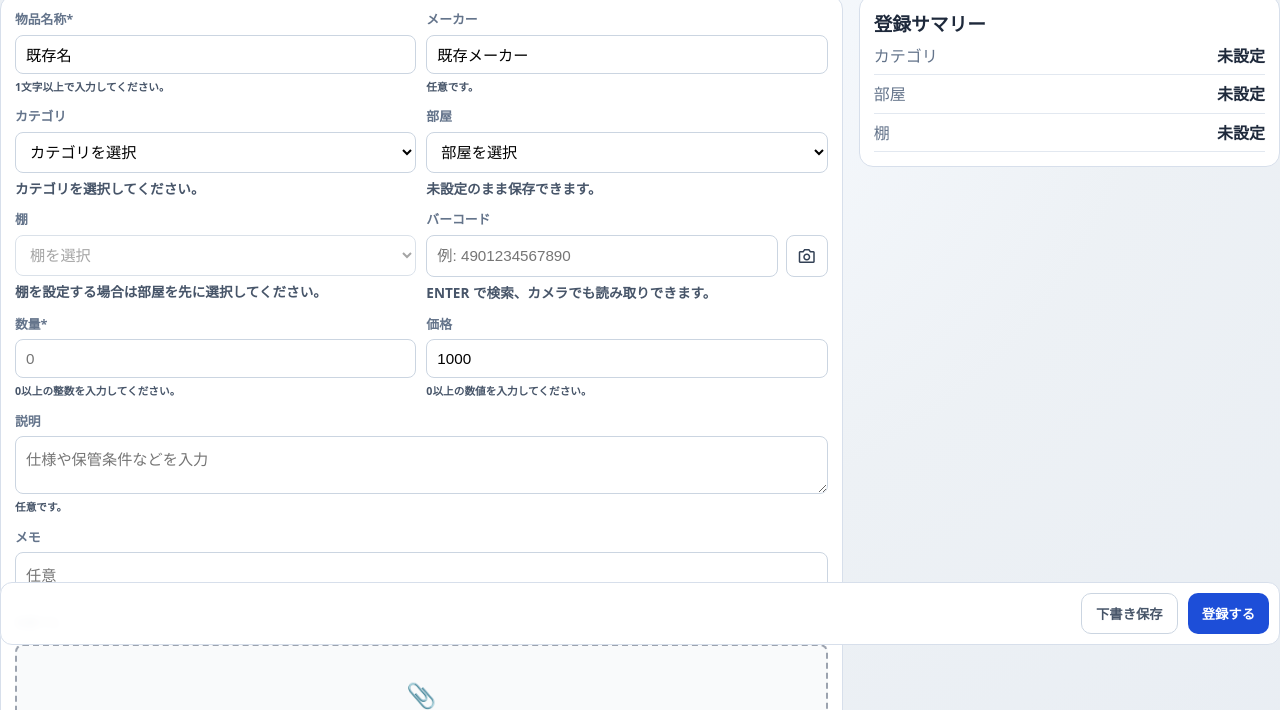
Scenario: ItemForm barcode › 競合値がある場合に差分選択パネルを表示する
The width and height of the screenshot is (1280, 710).
Type "4901234567890" into the field named "barcode" at (602, 256), box [426,235,778,277]
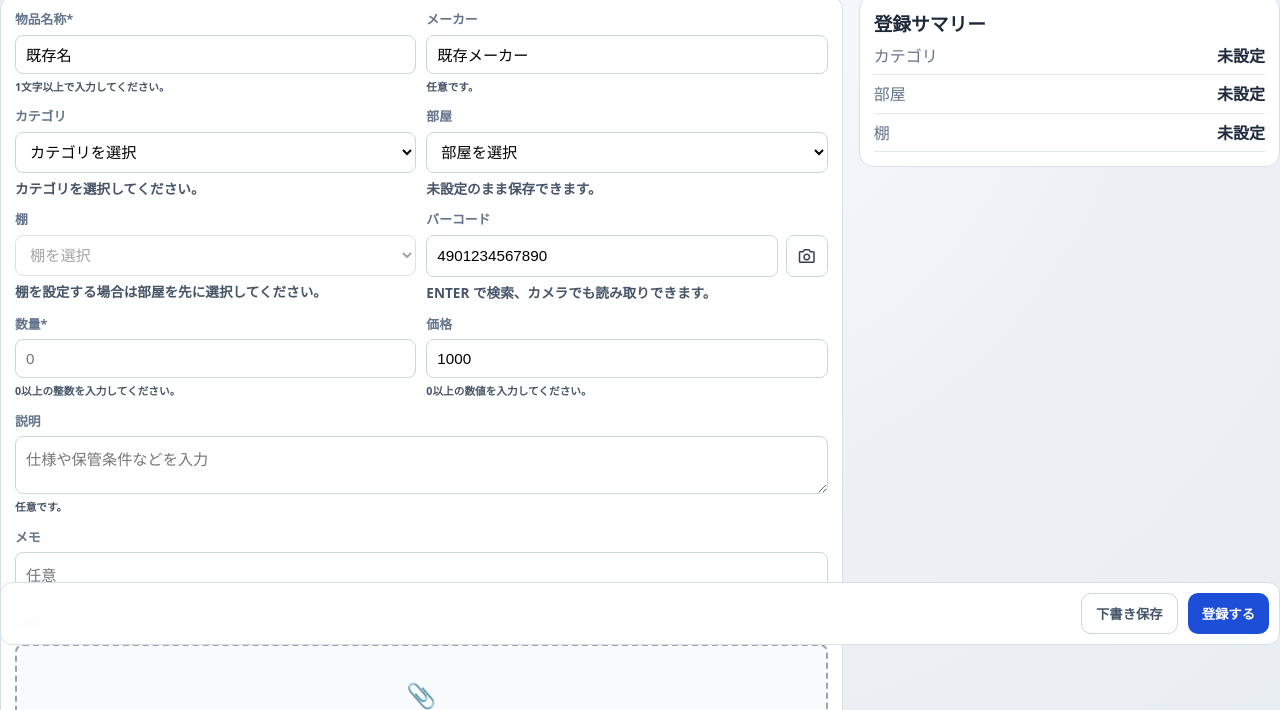
Press Enter in the field named "barcode", box [426,235,778,277]
(page scrolled)
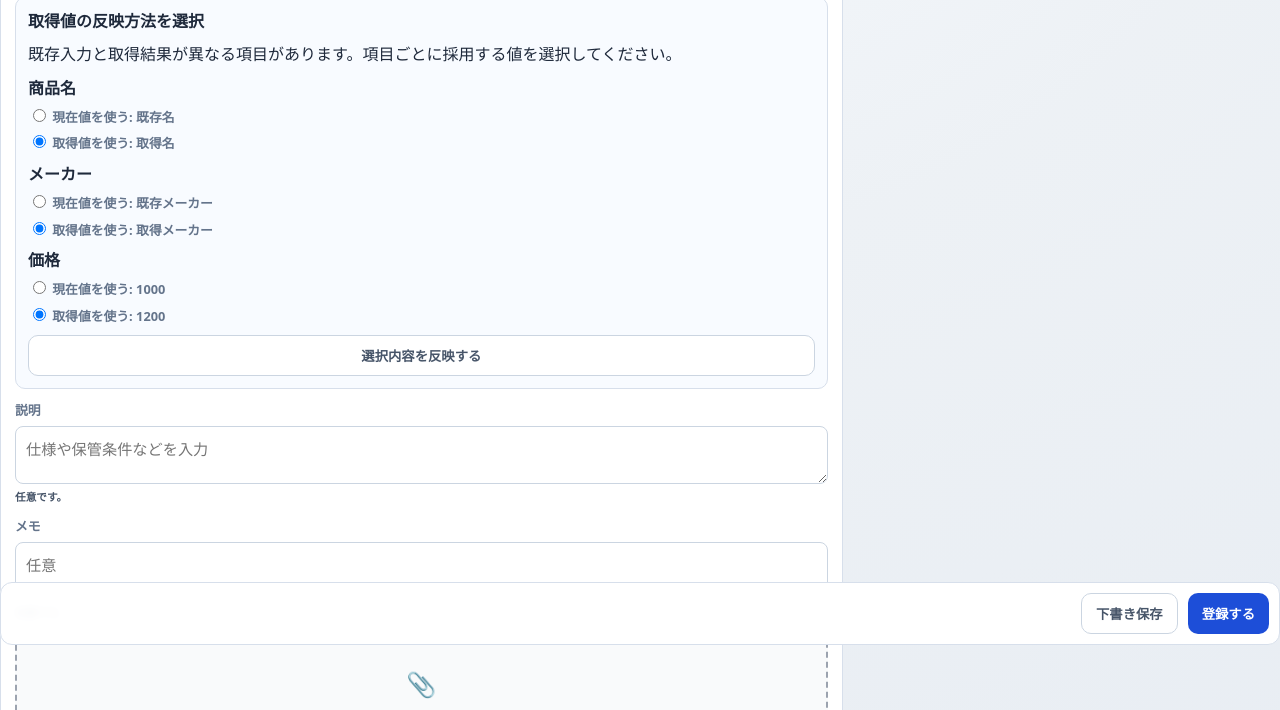
expect the text "取得値の反映方法を選択" is shown: met, box [28,10,204,32]
Click the button with class "secondary-btn" showing "選択内容を反映する" at (421, 356), box [28,336,815,376]
(page scrolled)
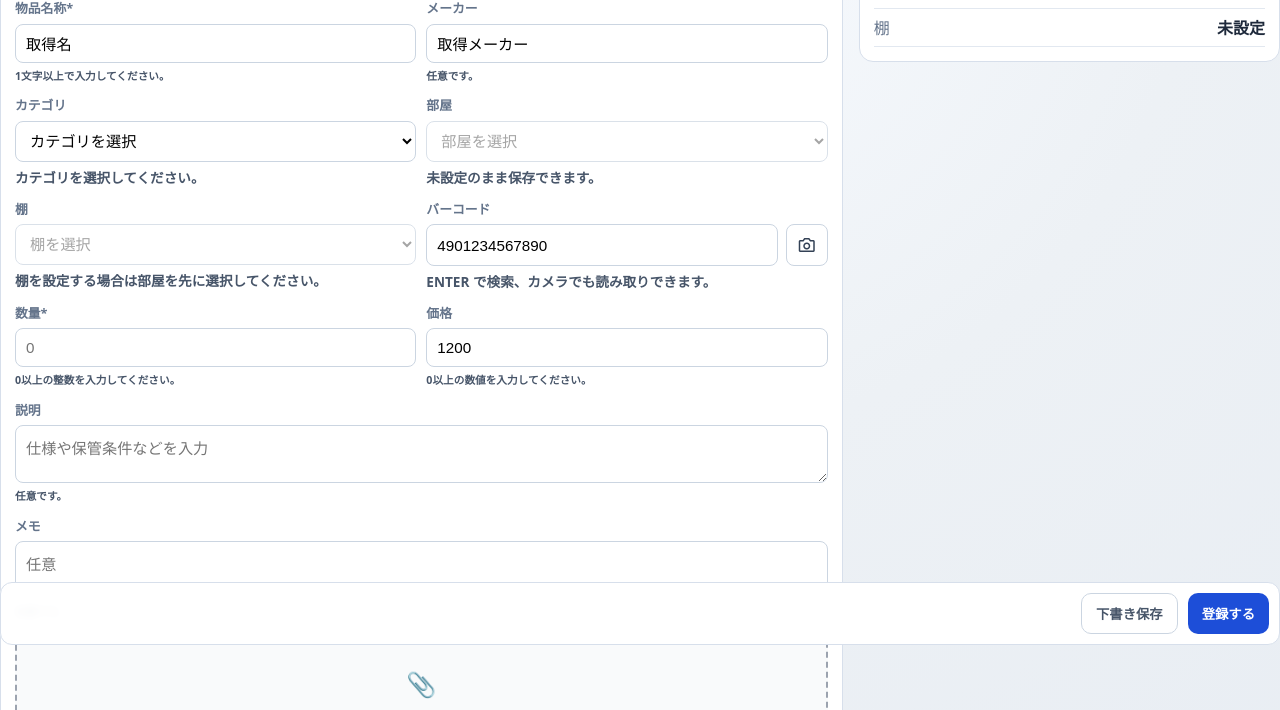
expect the field named "name" holds "取得名": met, box [15,24,416,63]
